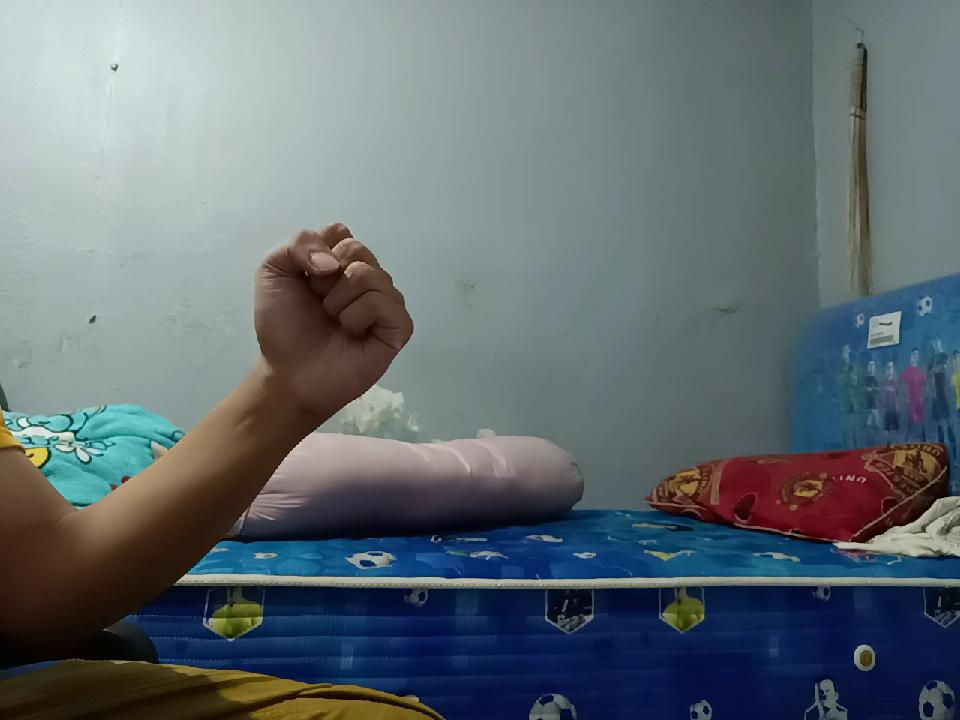rock: (248, 219, 422, 406)
